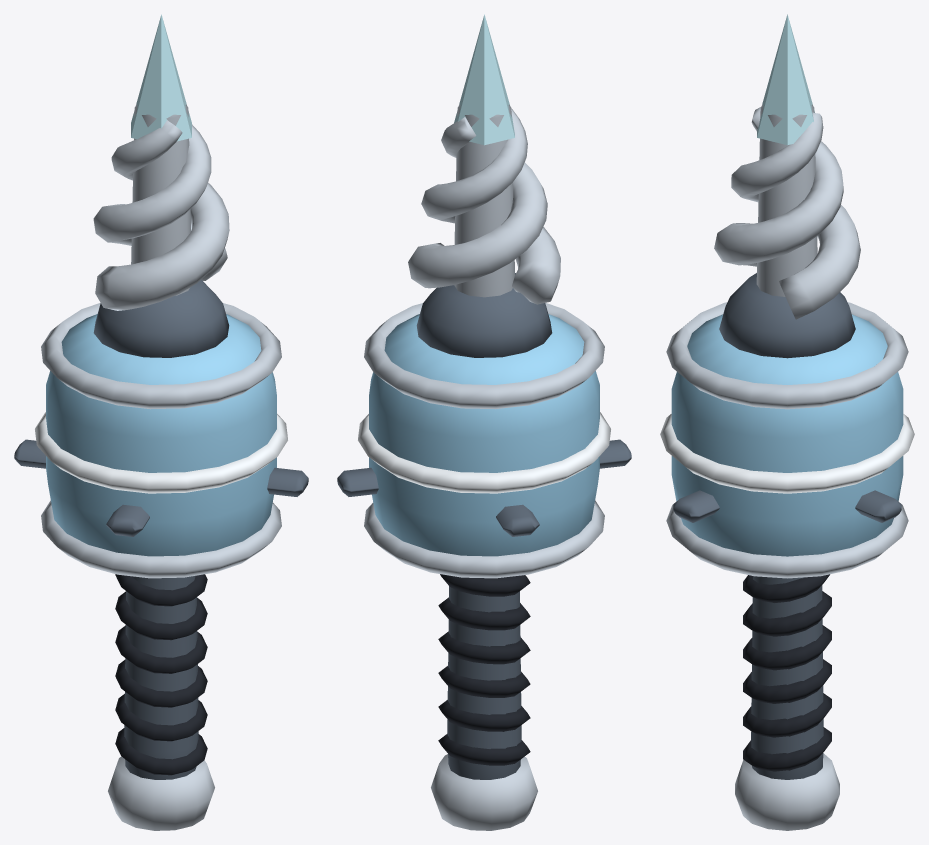
Rendered from Tool_T9.fbx.
3 views of the same model, side by side, from view 1: azimuth 30°, elevation 25°; view 2: azimuth 150°, elevation 25°; view 3: azimuth 270°, elevation 25° (orthographic).
Parts seen in each view (by area): view 1: ToolT9Head, ToolT9Handle, ToolT9Bit; view 2: ToolT9Head, ToolT9Bit, ToolT9Handle; view 3: ToolT9Head, ToolT9Bit, ToolT9Handle.
Boxes of the visible parts, box(x1,y1,x2,y2) form: ToolT9Head: box(14, 279, 308, 578); ToolT9Handle: box(108, 574, 214, 830); ToolT9Bit: box(93, 14, 229, 310); ToolT9Head: box(337, 273, 631, 578); ToolT9Bit: box(408, 14, 560, 304); ToolT9Handle: box(431, 574, 537, 830); ToolT9Head: box(660, 273, 914, 578); ToolT9Bit: box(714, 14, 860, 319); ToolT9Handle: box(735, 574, 839, 830).
Bounding box in the file's own units: 123 × 425 × 123.
